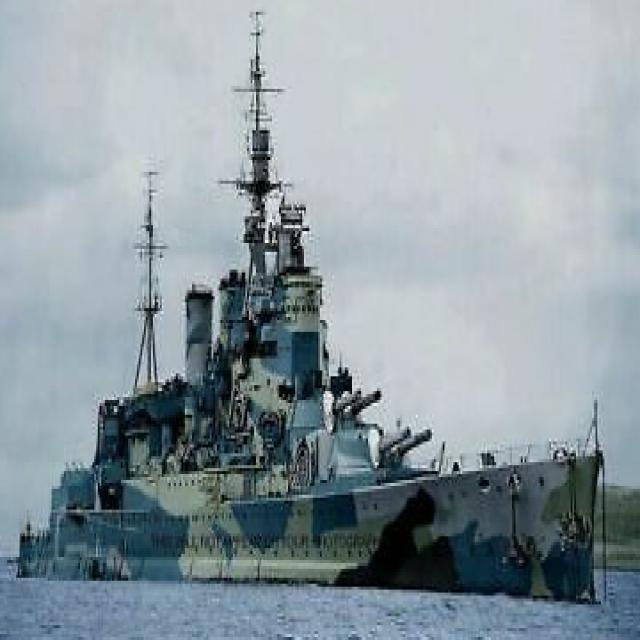navalvessels: (38, 52, 569, 603)
